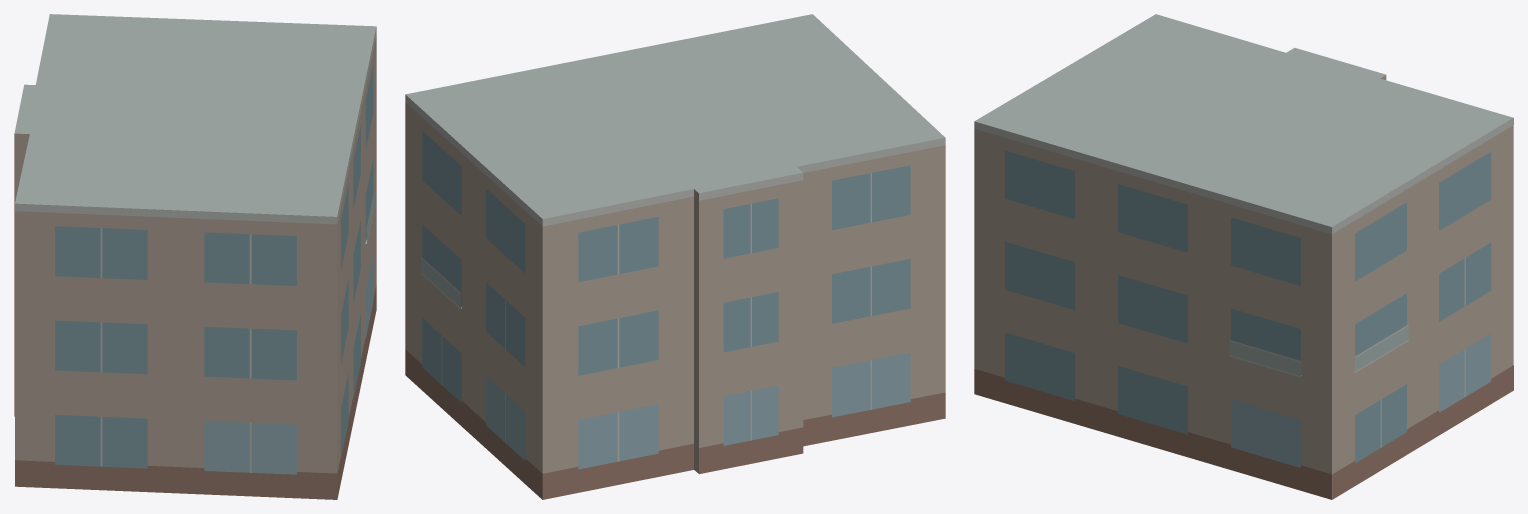
File: survey-upis-32704753.glb
3 views of the same model, side by side, from view 1: azimuth 30°, elevation 25°; view 2: azimuth 150°, elevation 25°; view 3: azimuth 270°, elevation 25° (orthographic). The views are drawn at different scales.
Parts seen in each view (by area): view 1: survey-upis-32704753.tmp; view 2: survey-upis-32704753.tmp; view 3: survey-upis-32704753.tmp.
Part boxes in pixels (left/top/right/bottom): survey-upis-32704753.tmp: left=14, top=14, right=376, bottom=499; survey-upis-32704753.tmp: left=405, top=14, right=945, bottom=499; survey-upis-32704753.tmp: left=974, top=14, right=1513, bottom=499.
Bounding box in the file's own units: 15.34 × 9.15 × 16.41.
